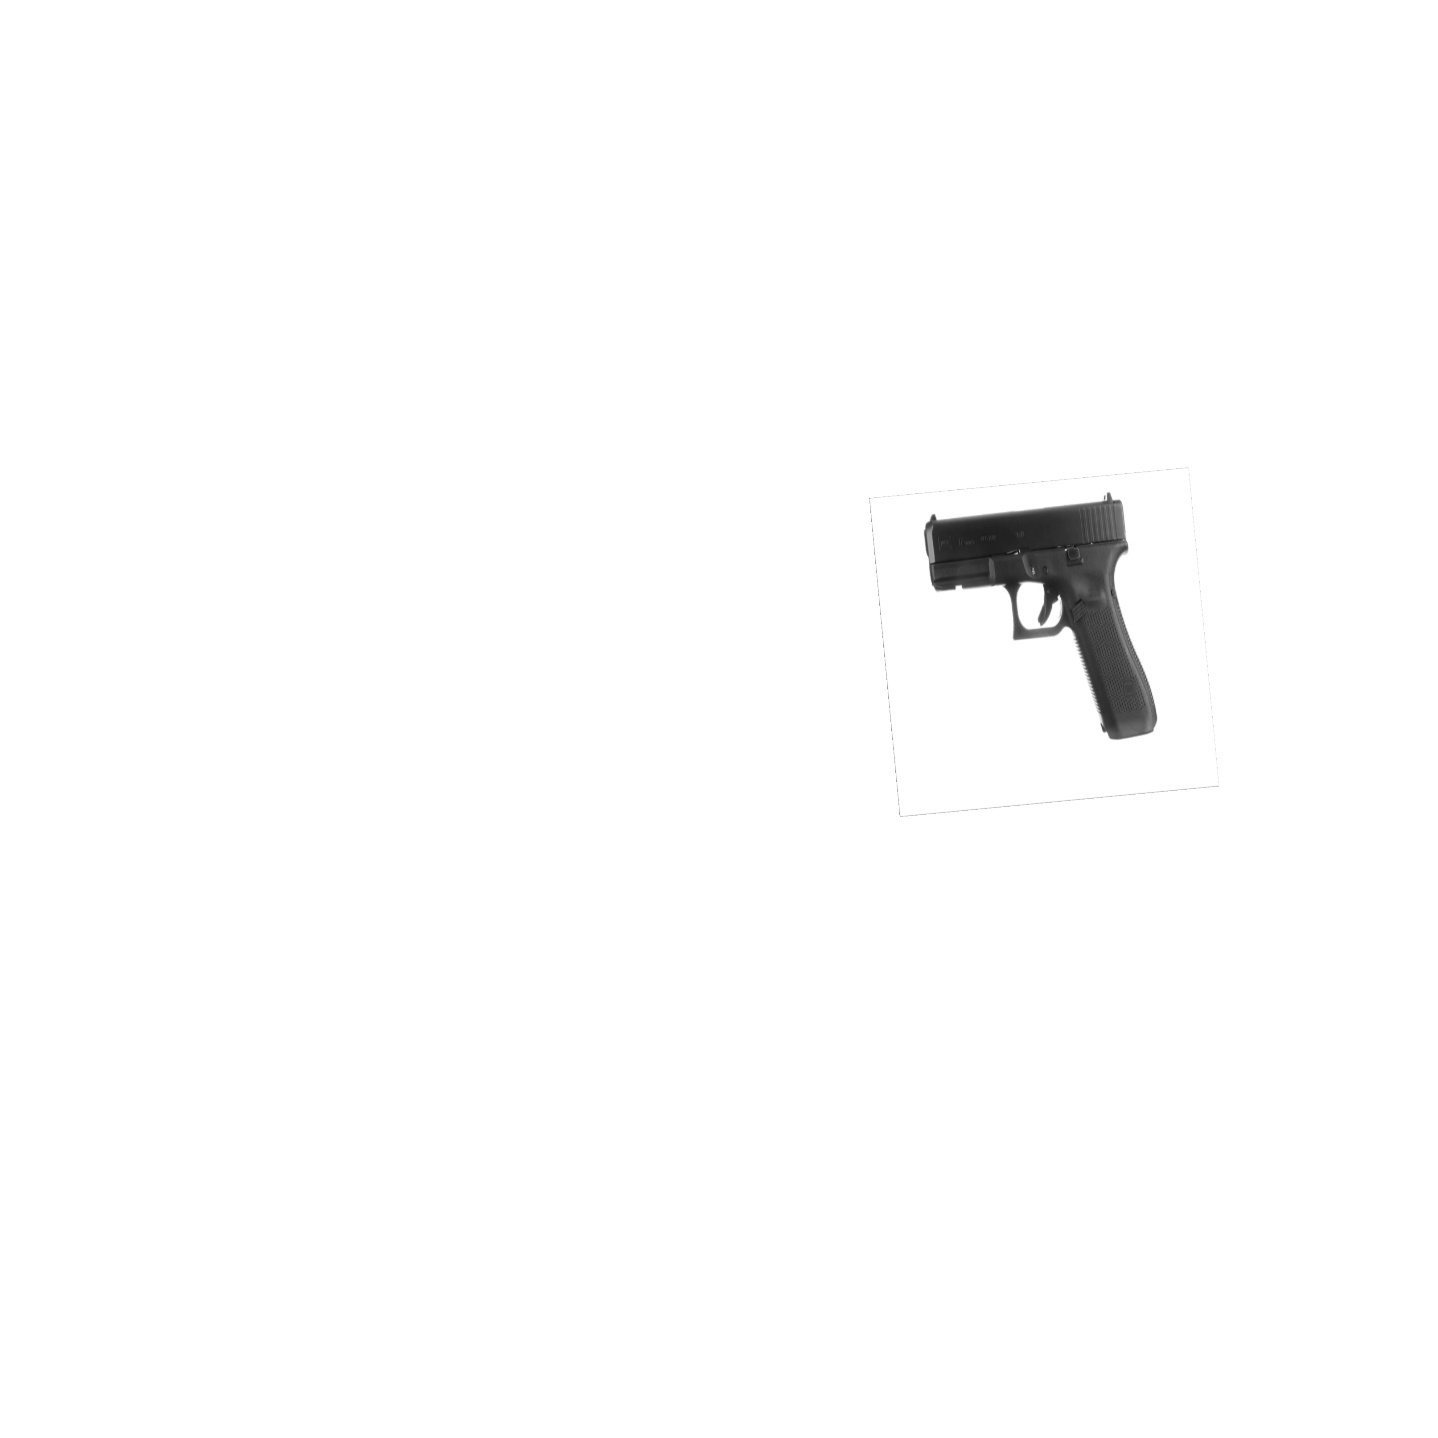gun: (915, 490, 1165, 753)
